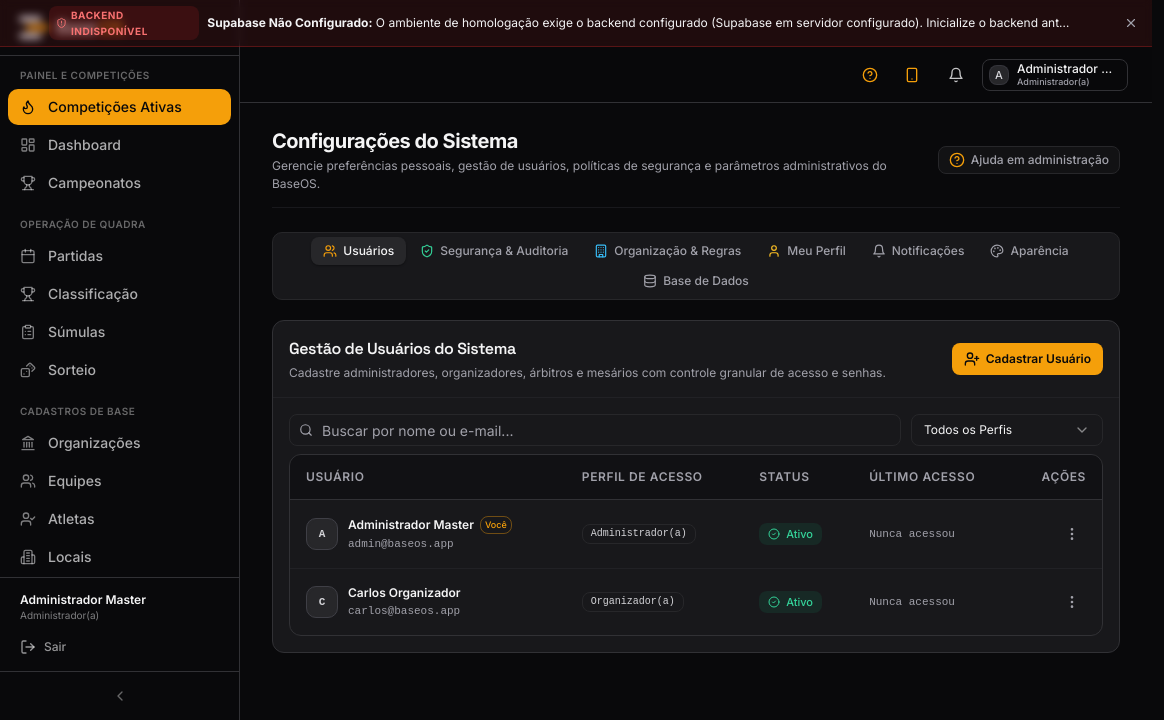
Scenario: SettingsPage Component (Fase 8.4) › navega para a aba Meu Perfil e exibe o perfil do usuário logado
Click the tab "Meu Perfil" at (806, 251), box [755, 237, 858, 265]
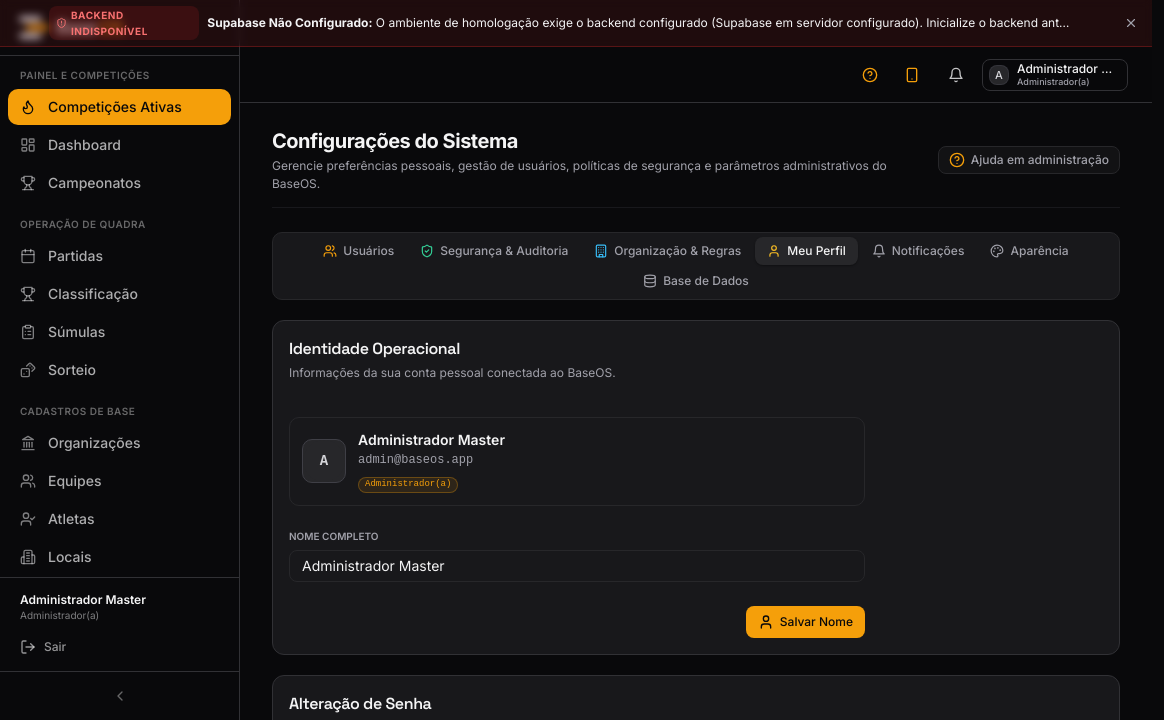
Expected: the heading "Identidade Operacional" is shown, [289, 338, 460, 359]
Expected: the field showing "Administrador Master" is shown, [289, 550, 865, 582]
